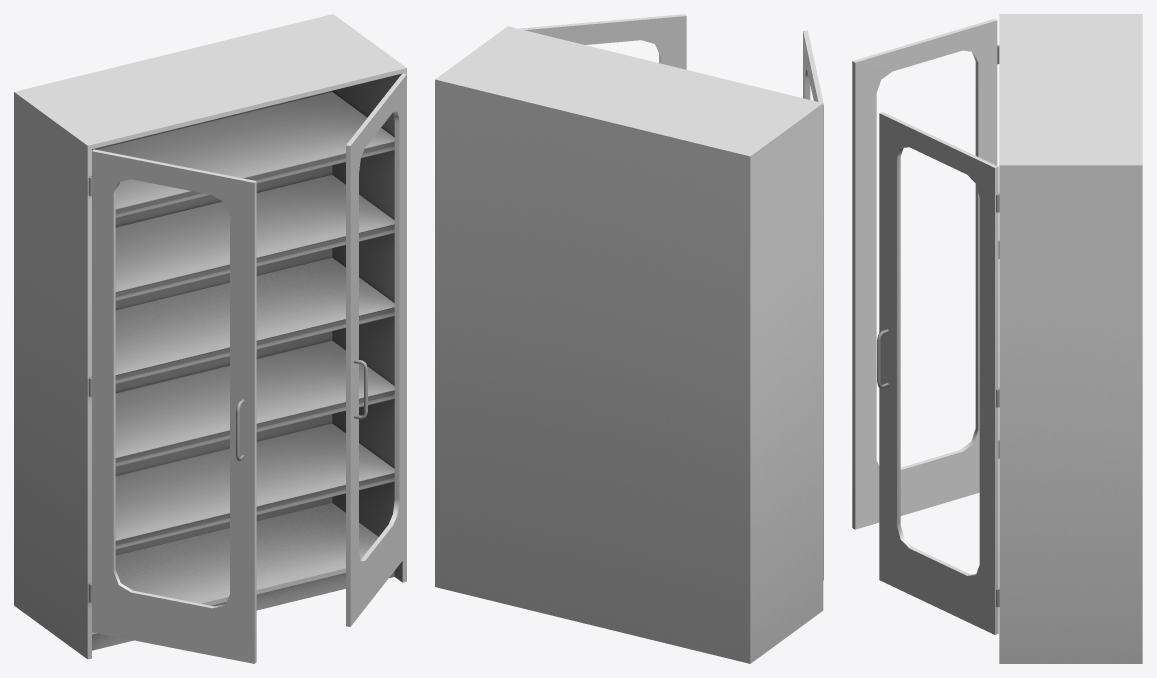
The model's file is closetGlassDoor.fbx.
The picture shows the model from 3 angles, left to right: view 1: azimuth 30°, elevation 25°; view 2: azimuth 150°, elevation 25°; view 3: azimuth 270°, elevation 25°; orthographic projection. The views are drawn at different scales.
Parts seen in each view (by area): view 1: closetGlassDoor; view 2: closetGlassDoor; view 3: closetGlassDoor.
Boxes of the visible parts, x1,y1,x2,y2 form: closetGlassDoor: [14, 14, 406, 663]; closetGlassDoor: [435, 14, 823, 663]; closetGlassDoor: [852, 14, 1142, 663].
Bounding box in the file's own units: 3.05 × 4.7 × 2.47.
1 material, 1 textured.
